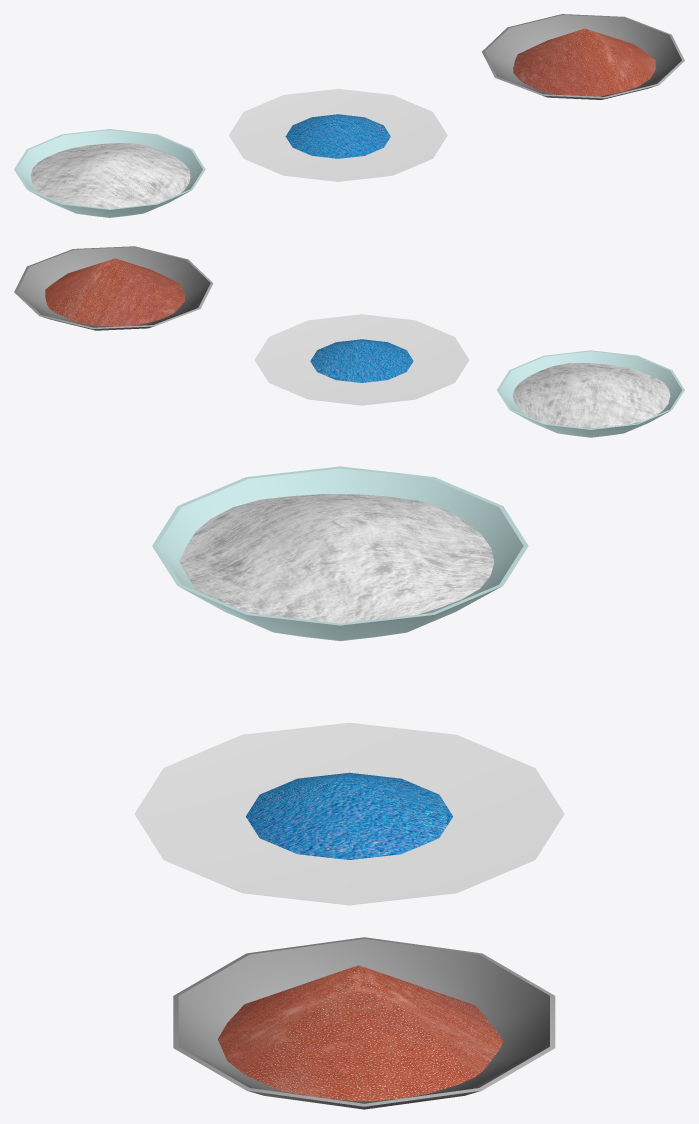
The model's file is salts.fbx.
The picture shows the model from 3 angles, top to bottom: view 1: azimuth 30°, elevation 25°; view 2: azimuth 150°, elevation 25°; view 3: azimuth 270°, elevation 25°; orthographic projection. The views are drawn at different scales.
Visible parts, largest first — view 1: blue_zinc_plate, baking_soda, pCone2, pSphere2, plate1; view 2: blue_zinc_plate, baking_soda, pCone2, pSphere2, plate1; view 3: blue_zinc_plate, baking_soda, pCone2, pSphere2, plate1.
Part boxes in pixels (<box>): blue_zinc_plate: <box>229,89,447,181</box>; baking_soda: <box>30,143,190,208</box>; pCone2: <box>513,28,655,99</box>; pSphere2: <box>482,14,684,99</box>; plate1: <box>14,129,205,217</box>; blue_zinc_plate: <box>254,314,469,405</box>; baking_soda: <box>513,363,670,428</box>; pCone2: <box>45,258,184,326</box>; pSphere2: <box>14,246,213,330</box>; plate1: <box>497,350,684,437</box>; blue_zinc_plate: <box>134,722,564,905</box>; baking_soda: <box>179,494,494,623</box>; pCone2: <box>218,965,503,1101</box>; pSphere2: <box>173,937,555,1109</box>; plate1: <box>152,466,528,641</box>.
Size of the model in its own units: 137 by 10.92 by 39.89.
6 materials, 3 textured.
